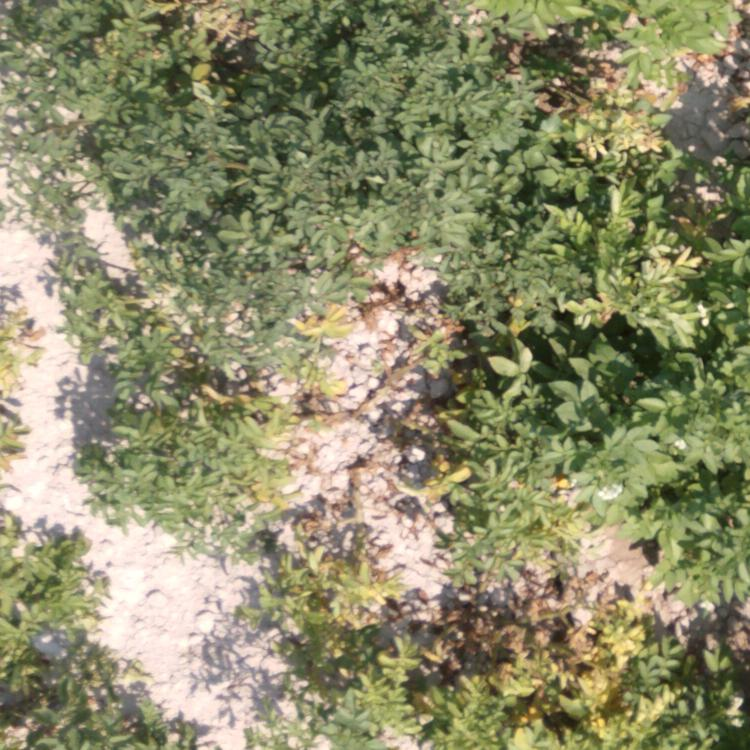healthy: (1, 1, 550, 298), (558, 170, 728, 407), (601, 410, 748, 590), (408, 296, 551, 397)
stressed: (126, 305, 368, 503), (440, 595, 742, 750), (256, 519, 429, 745), (546, 6, 750, 161), (432, 407, 586, 600), (1, 294, 46, 749), (61, 533, 145, 750)
